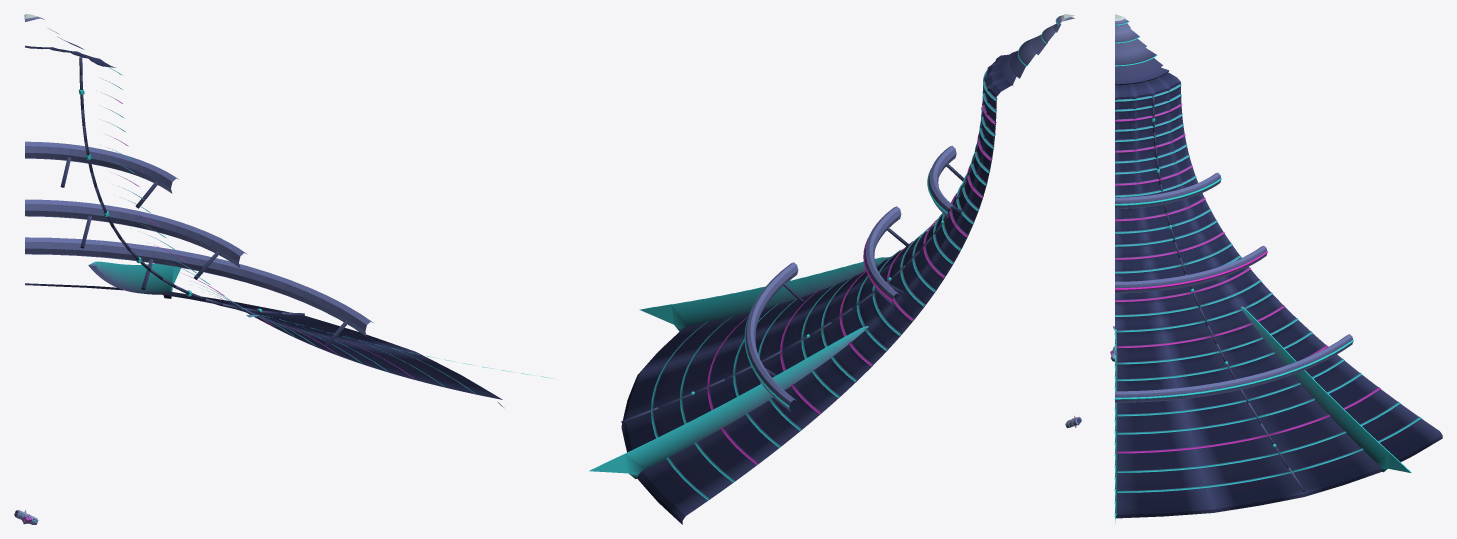
The model's file is core-s5-DWJgVgsg.glb.
3 renders of one model, left to right at view 1: azimuth 30°, elevation 25°; view 2: azimuth 150°, elevation 25°; view 3: azimuth 270°, elevation 25°, orthographic. The views are drawn at different scales.
Parts seen in each view (by area): view 1: sc_landmark_0; view 2: sc_landmark_0; view 3: sc_landmark_0.
Part boxes in pixels (x1,y1,x2,y2): sc_landmark_0: [24, 14, 552, 407]; sc_landmark_0: [589, 14, 1074, 524]; sc_landmark_0: [1113, 14, 1442, 523].
Bounding box in the file's own units: 423 × 378 × 330.
